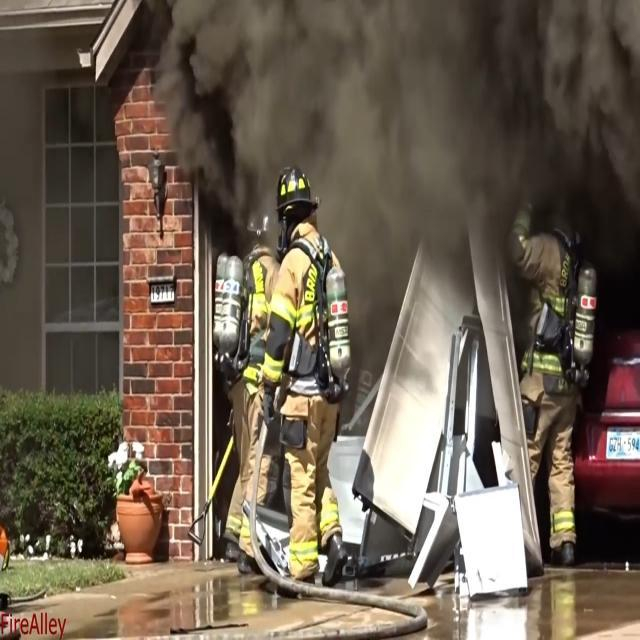Smoke: (215, 18, 618, 200)
